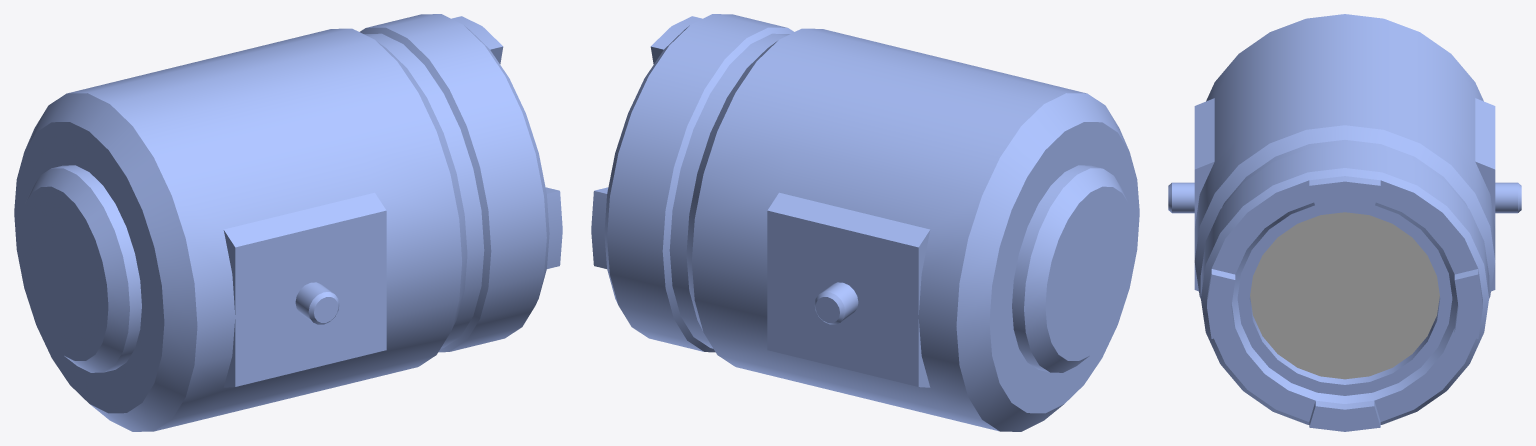
File: SM_Spotlight.FBX
3 renders of one model, left to right at view 1: azimuth 30°, elevation 25°; view 2: azimuth 150°, elevation 25°; view 3: azimuth 270°, elevation 25°, orthographic. The views are drawn at different scales.
Visible parts, largest first — view 1: SM_Spotlight; view 2: SM_Spotlight; view 3: SM_Spotlight.
Part boxes in pixels (x1,y1,x2,y2): SM_Spotlight: (14, 14, 562, 431); SM_Spotlight: (591, 14, 1139, 431); SM_Spotlight: (1168, 14, 1521, 431).
Size of the model in its own units: 55.42 by 46.97 by 40.
